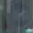bike lane: (5, 0, 32, 28)
